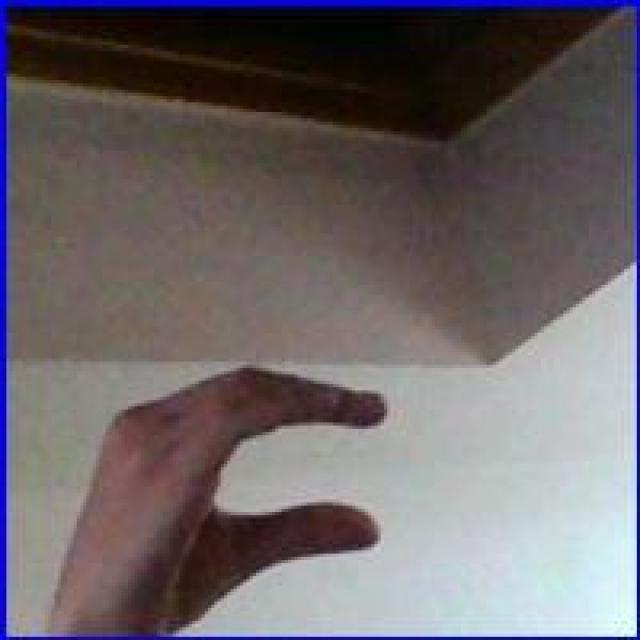C: (40, 358, 395, 621)
